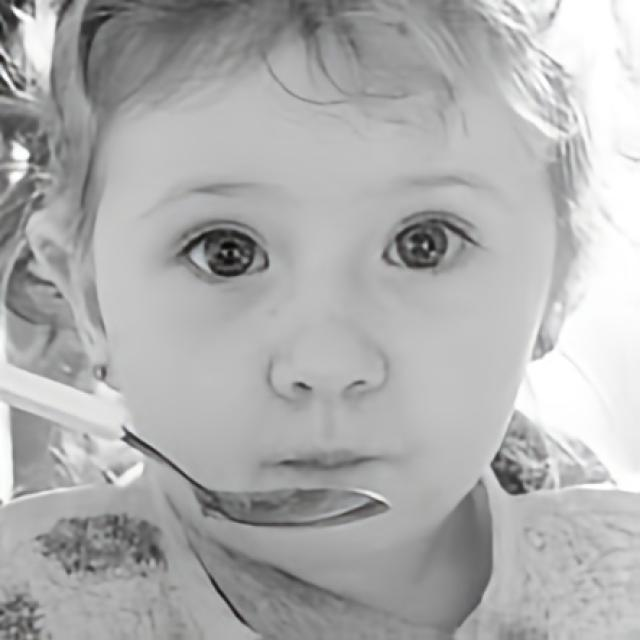surprise: (92, 0, 556, 567)
